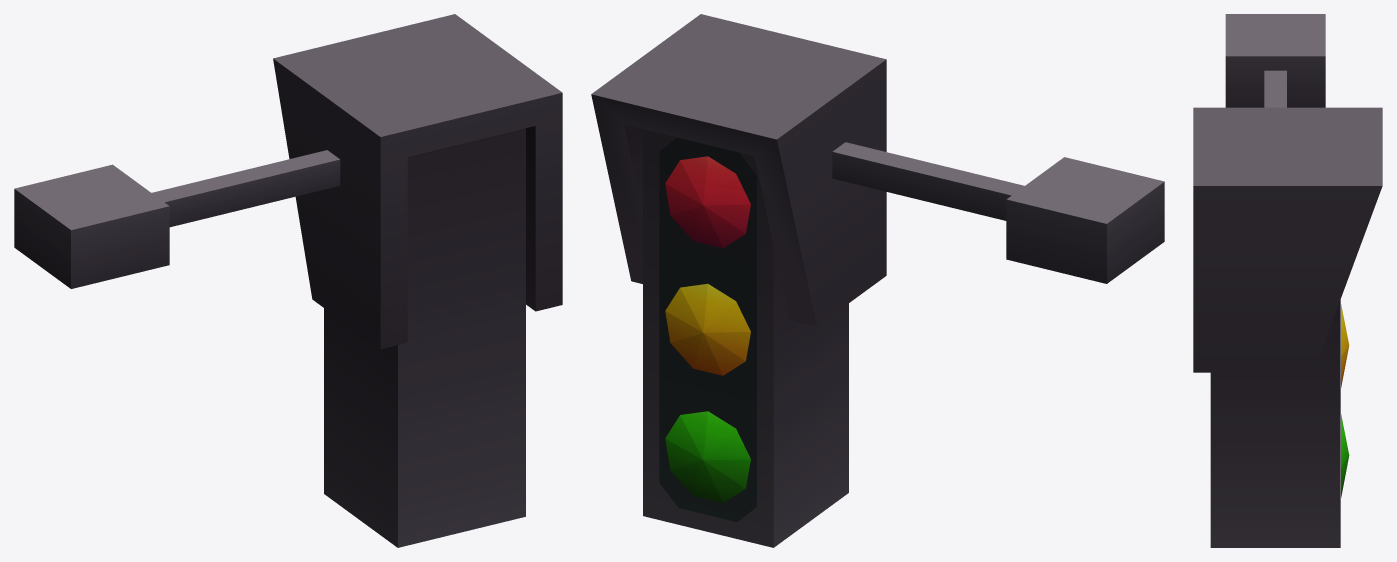
Rendered from Stopsign_3A.fbx.
3 renders of one model, left to right at view 1: azimuth 30°, elevation 25°; view 2: azimuth 150°, elevation 25°; view 3: azimuth 270°, elevation 25°, orthographic. The views are drawn at different scales.
Parts seen in each view (by area): view 1: Stopsign_3A; view 2: Stopsign_3A; view 3: Stopsign_3A.
Part boxes in pixels (<box>): Stopsign_3A: <box>14,14,562,547</box>; Stopsign_3A: <box>591,14,1164,547</box>; Stopsign_3A: <box>1193,14,1382,547</box>.
Size of the model in its own units: 180 by 155 by 70.97.
